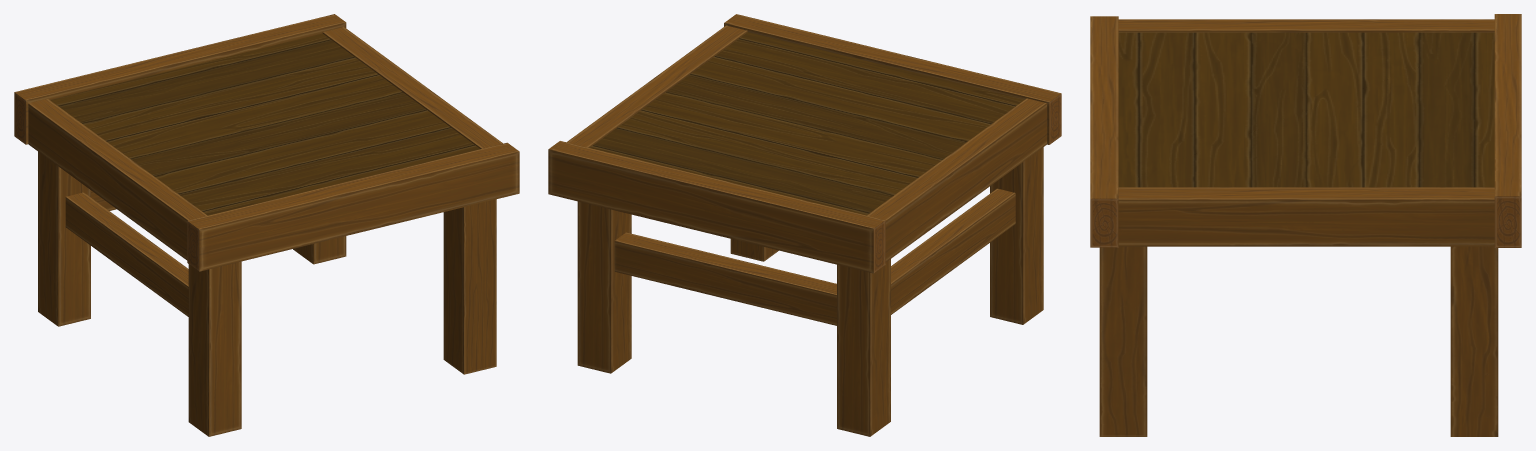
The model's file is SM_Stairs_Interior_Platform_02.fbx.
The picture shows the model from 3 angles, left to right: view 1: azimuth 30°, elevation 25°; view 2: azimuth 150°, elevation 25°; view 3: azimuth 270°, elevation 25°; orthographic projection. The views are drawn at different scales.
Visible parts, largest first — view 1: SM_Stairs_Interior_Platform_02; view 2: SM_Stairs_Interior_Platform_02; view 3: SM_Stairs_Interior_Platform_02.
Boxes of the visible parts, left/top/right/bottom form: SM_Stairs_Interior_Platform_02: left=14, top=14, right=519, bottom=436; SM_Stairs_Interior_Platform_02: left=548, top=14, right=1061, bottom=436; SM_Stairs_Interior_Platform_02: left=1090, top=14, right=1521, bottom=436.
Bounding box in the file's own units: 2.55 × 1.64 × 2.55.
